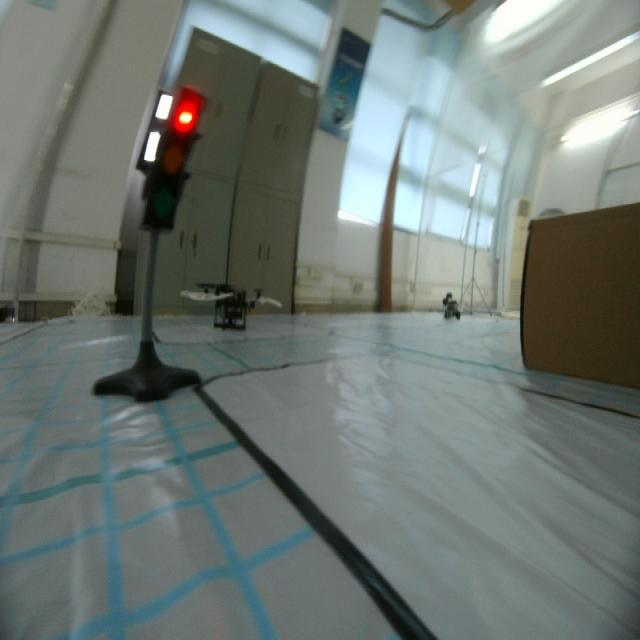red: (142, 72, 208, 239)
